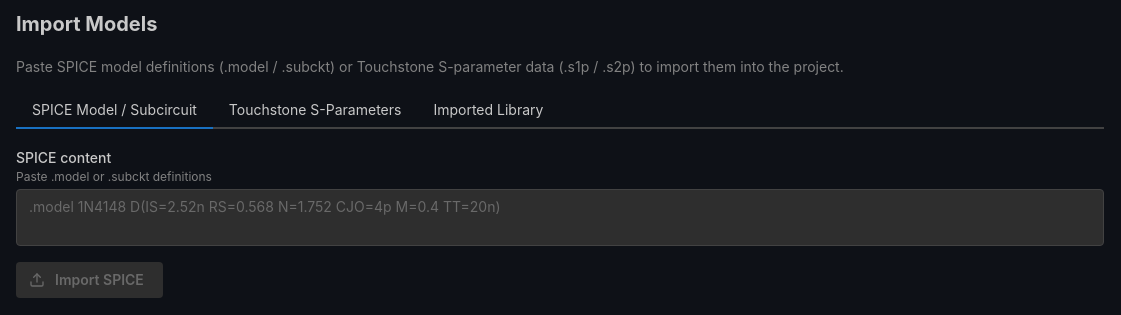
ImportModelsScreen › refresh list loads imported models
Click the tab "Imported Library" at (488, 111), box [417, 93, 559, 129]
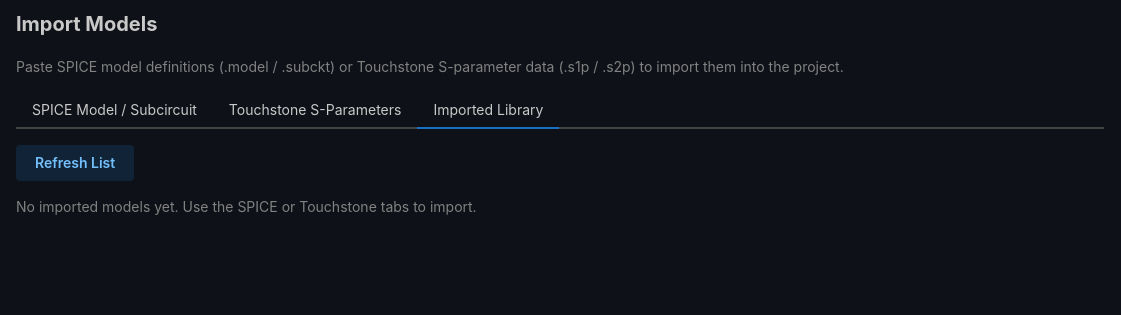
Click the button "Refresh List" at (75, 163), box [16, 145, 134, 181]
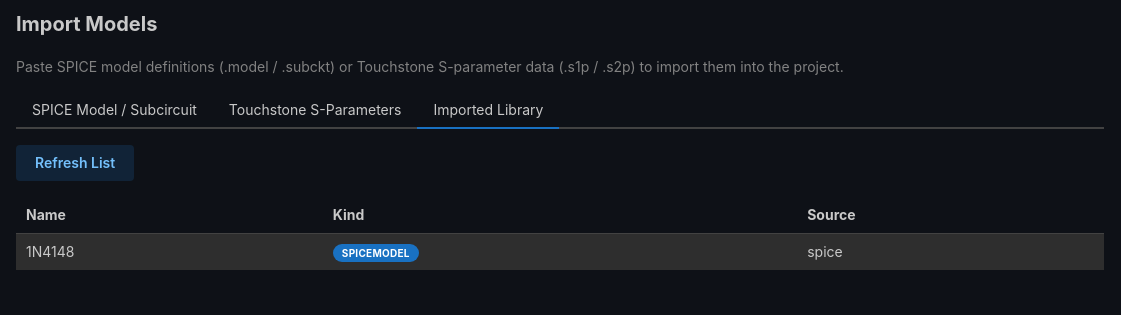
Expected: the text "1N4148" is shown, [16, 234, 323, 270]
